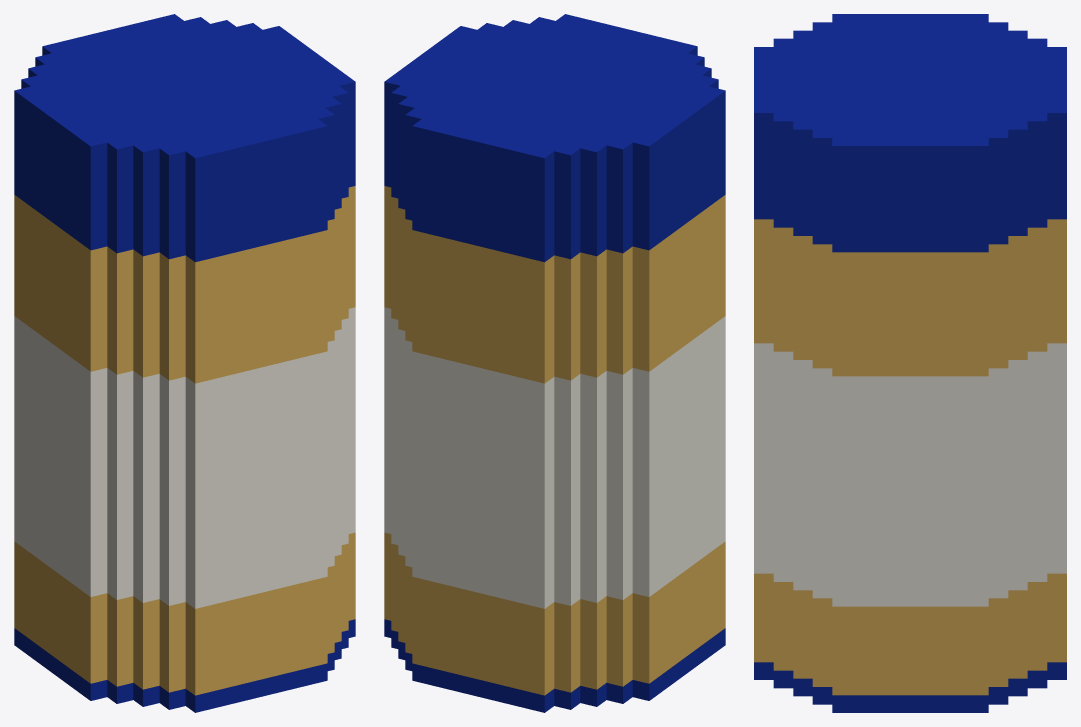
File: prescription_sedative.glb
3 renders of one model, left to right at view 1: azimuth 30°, elevation 25°; view 2: azimuth 150°, elevation 25°; view 3: azimuth 270°, elevation 25°, orthographic. The views are drawn at different scales.
Parts seen in each view (by area): view 1: prescription_sedative:vessel; view 2: prescription_sedative:vessel; view 3: prescription_sedative:vessel.
Part boxes in pixels (left/top/right/bottom): prescription_sedative:vessel: left=14, top=14, right=355, bottom=712; prescription_sedative:vessel: left=384, top=14, right=725, bottom=712; prescription_sedative:vessel: left=754, top=14, right=1066, bottom=712.
Size of the model in its own units: 0.032 by 0.064 by 0.032.
